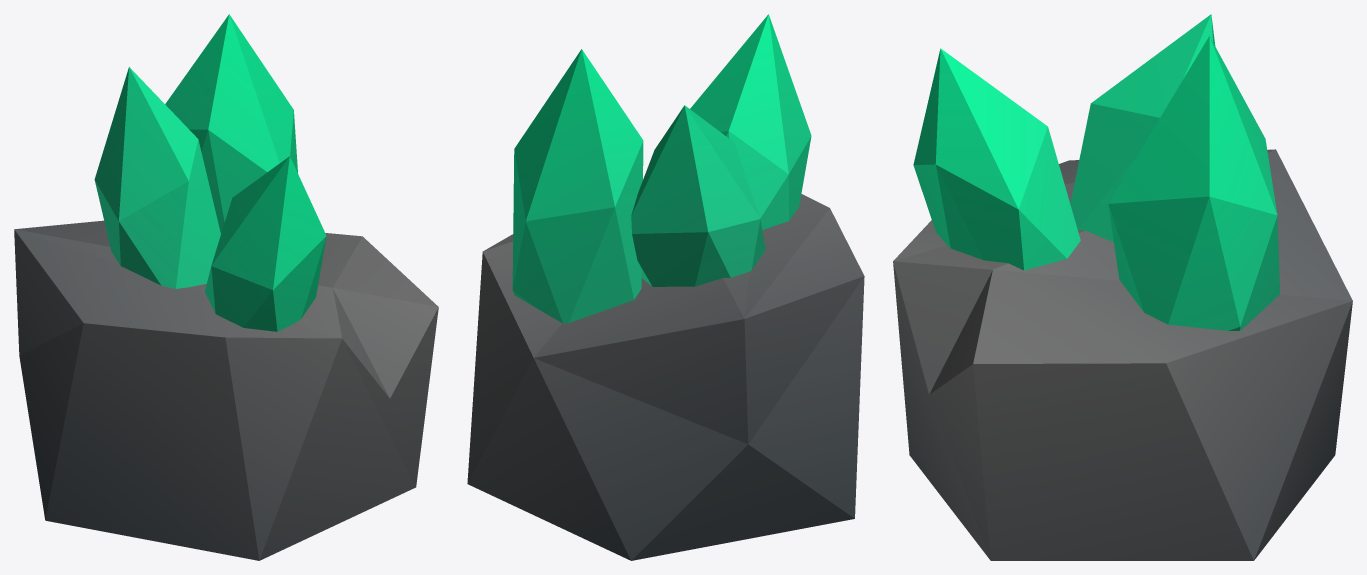
File: Geminite Rock.fbx
The picture shows the model from 3 angles, left to right: view 1: azimuth 30°, elevation 25°; view 2: azimuth 150°, elevation 25°; view 3: azimuth 270°, elevation 25°; orthographic projection. The views are drawn at different scales.
Visible parts, largest first — view 1: GEMINITE ROCK.001; view 2: GEMINITE ROCK.001; view 3: GEMINITE ROCK.001.
Boxes of the visible parts, bbox=[...] form: GEMINITE ROCK.001: bbox=[14, 14, 438, 560]; GEMINITE ROCK.001: bbox=[467, 14, 864, 560]; GEMINITE ROCK.001: bbox=[893, 14, 1352, 560].
Size of the model in its own units: 156 by 188 by 165.
Materials: 2 (2 with a texture image).
